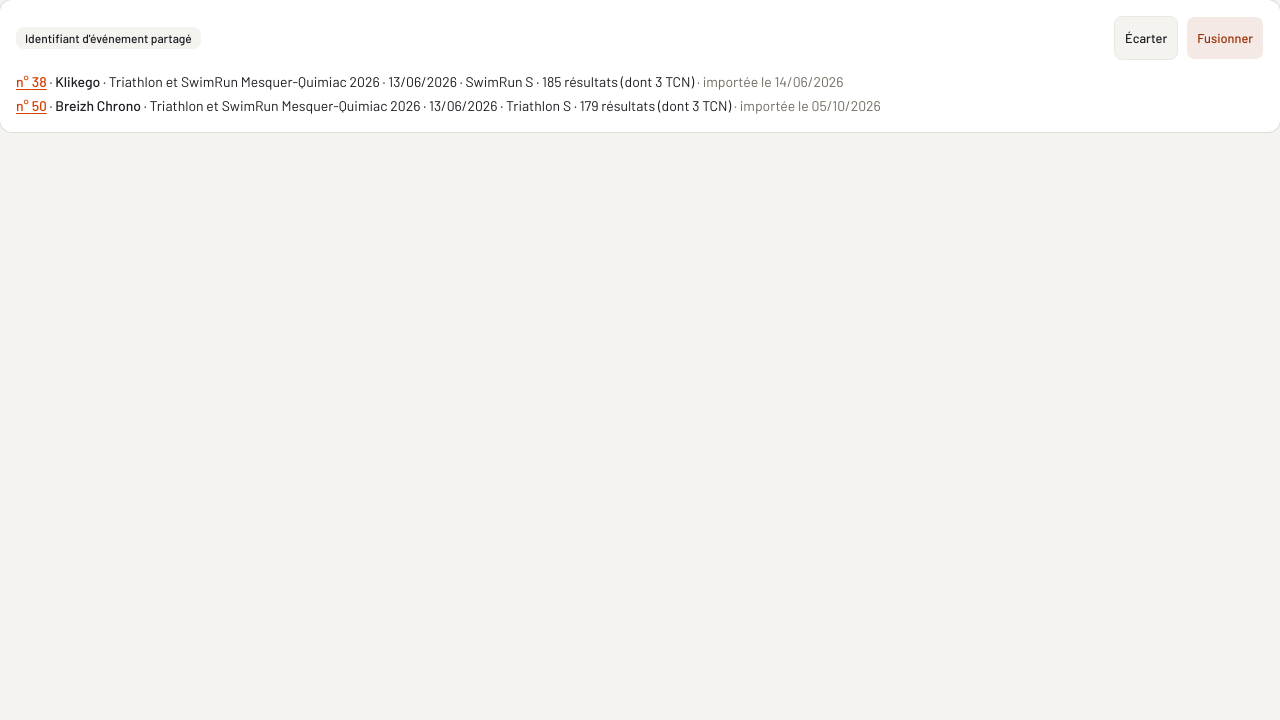
it: CourseDuplicatesTable › demande confirmation avant d'écarter — le geste n'a pas d'écran retour (#754)
What coordinates should you click on to do the following:
click the button "Écarter"
I would click on:
 (1146, 38)
Its box is x1=1114 y1=16 x2=1178 y2=60.
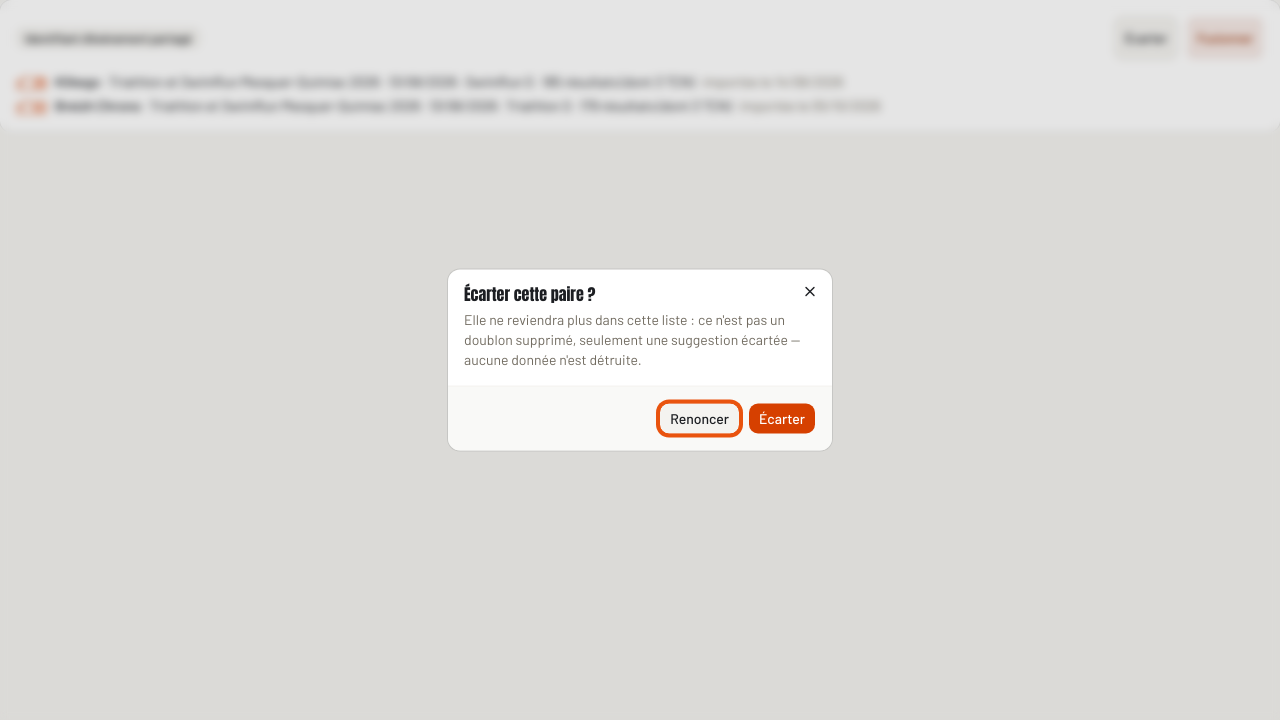
Check: the heading "Écarter cette paire ?" is shown, box x1=464 y1=282 x2=595 y2=306
